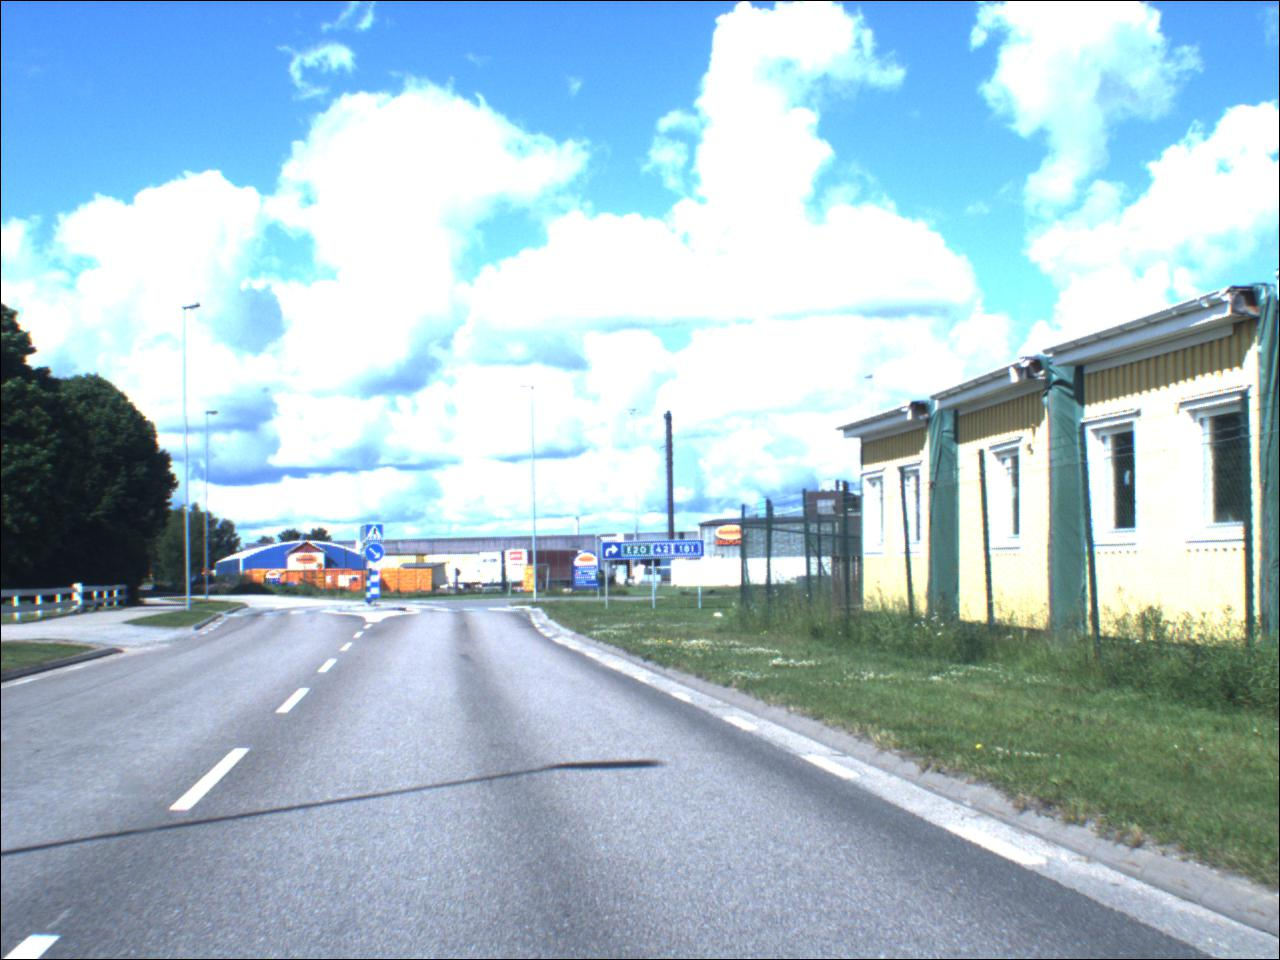PASS_RIGHT_SIDE: (367, 546, 387, 565)
PEDESTRIAN_CROSSING: (367, 526, 386, 545)
